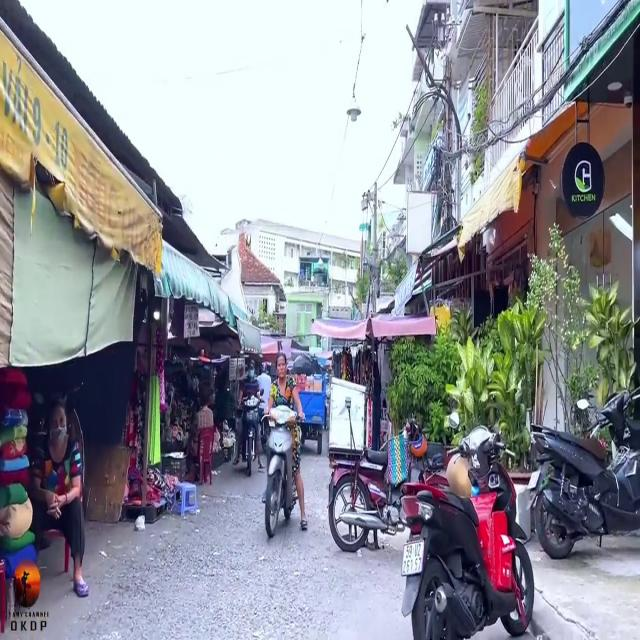bien_trang: (401, 542, 427, 580)
